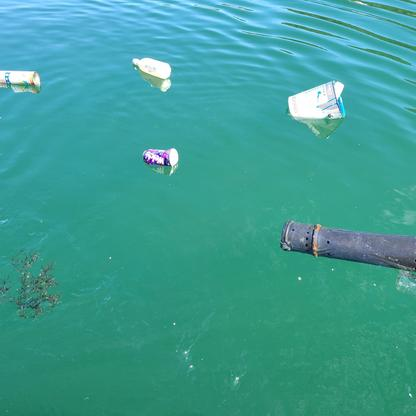can: (142, 147, 180, 167)
plastic bottle: (131, 57, 171, 79)
